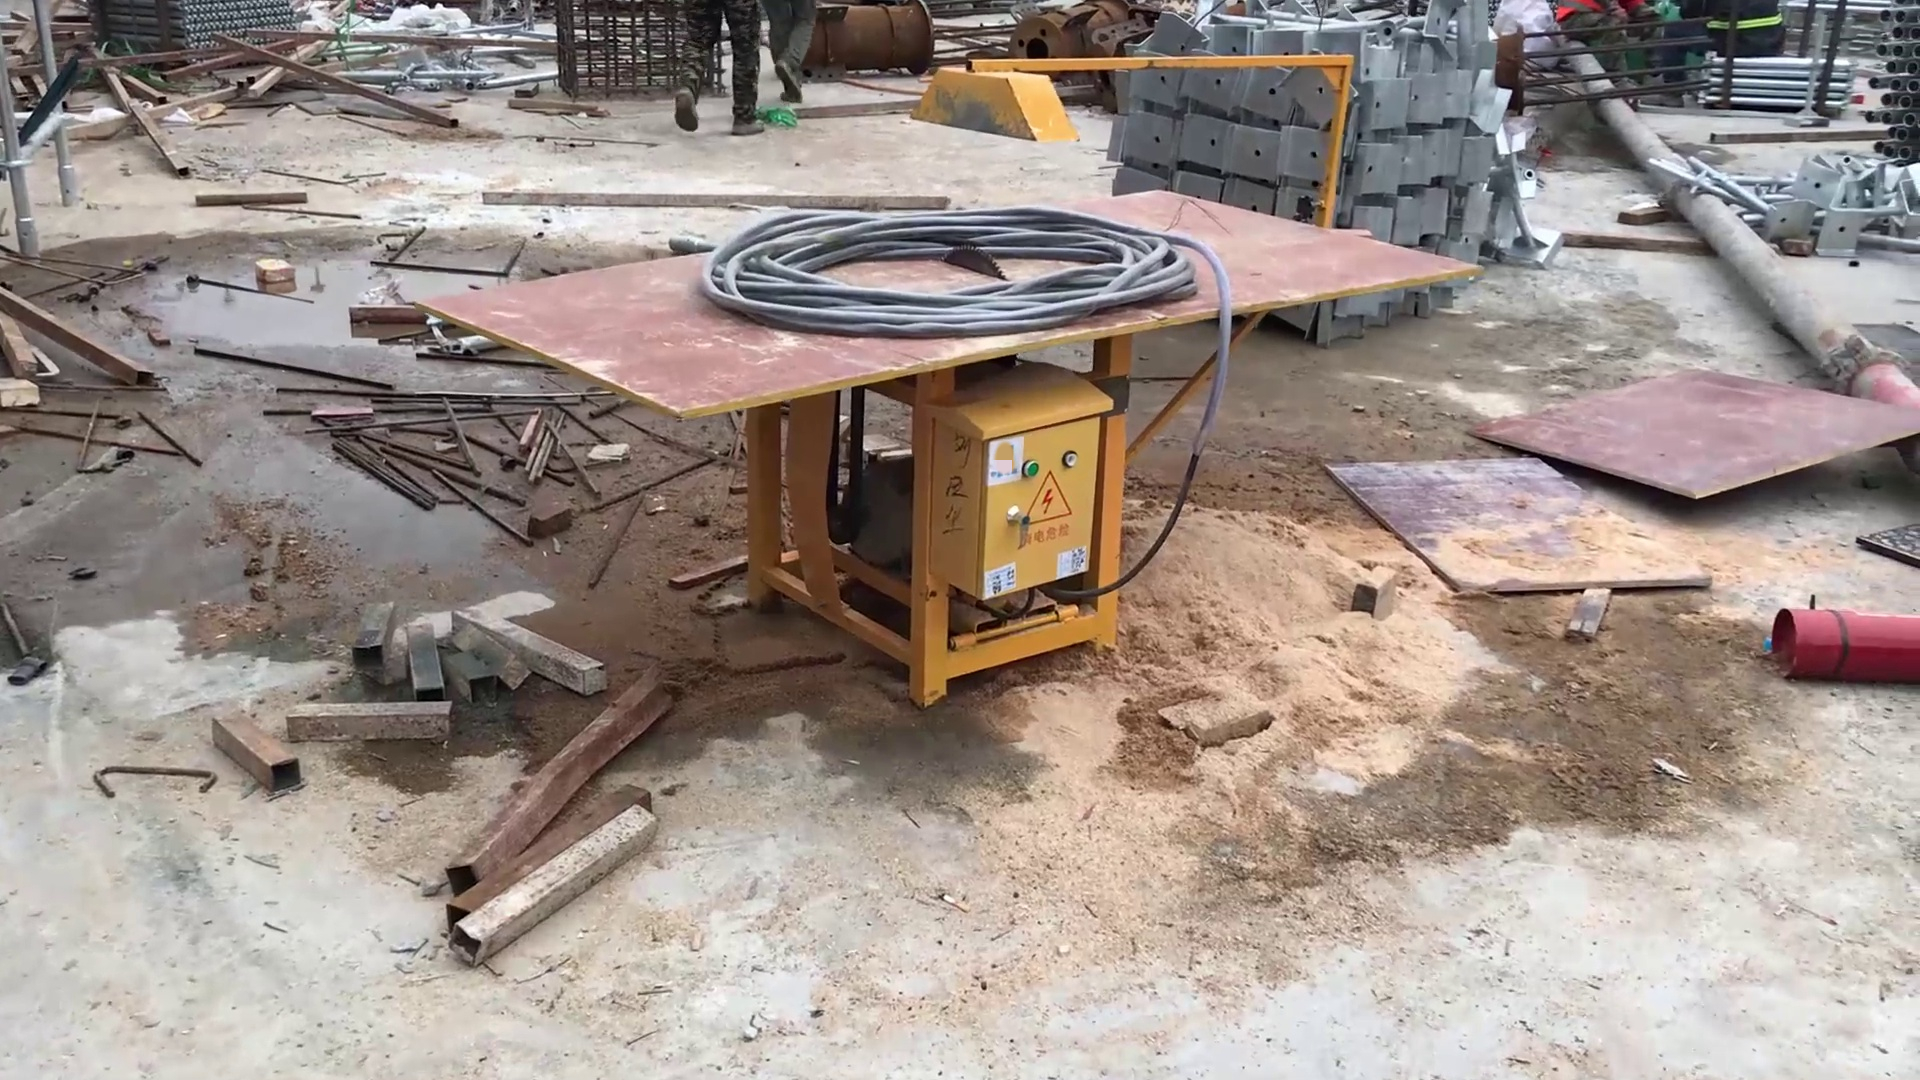board: (1298, 452, 1745, 630), (1455, 331, 1920, 498)
cutter: (404, 183, 1516, 723)
ebox: (949, 371, 1113, 599)
scaffold: (1108, 1, 1510, 278)
